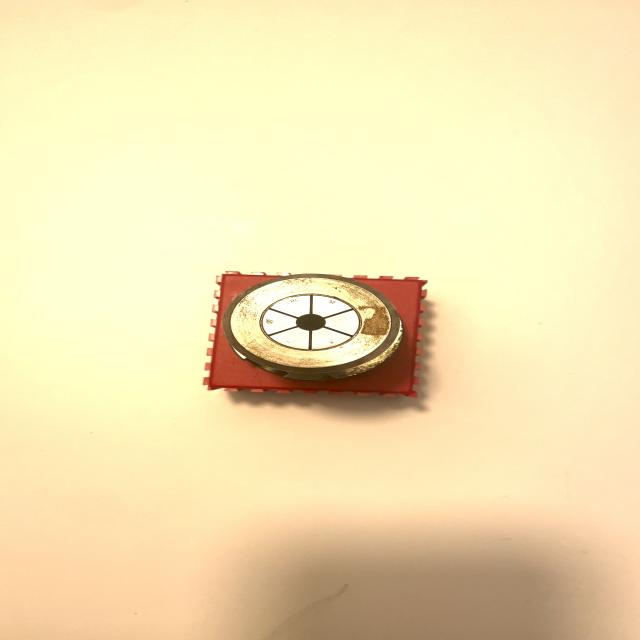Filled_Slot: (221, 274, 403, 381)
